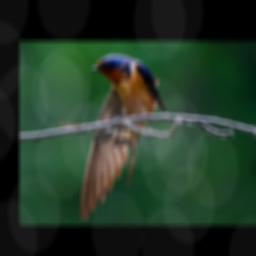Swallow: (77, 53, 175, 221)
